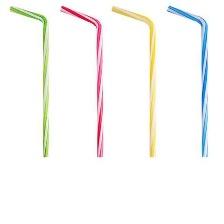drinking_straw: (55, 2, 109, 160), (161, 2, 215, 160), (108, 2, 160, 160), (5, 2, 52, 160)
